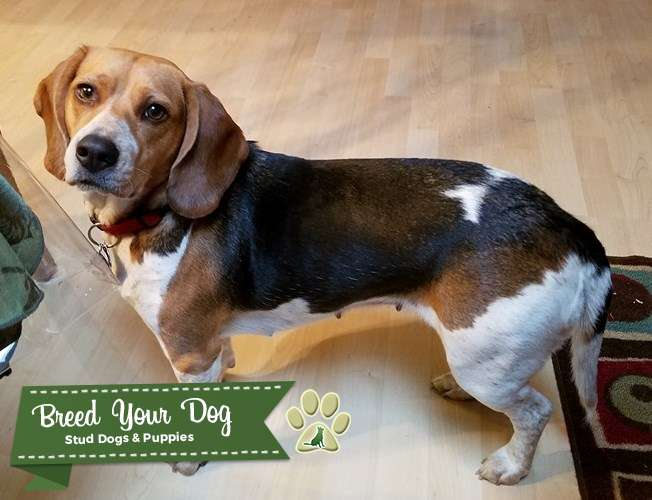dog: (21, 38, 613, 487)
